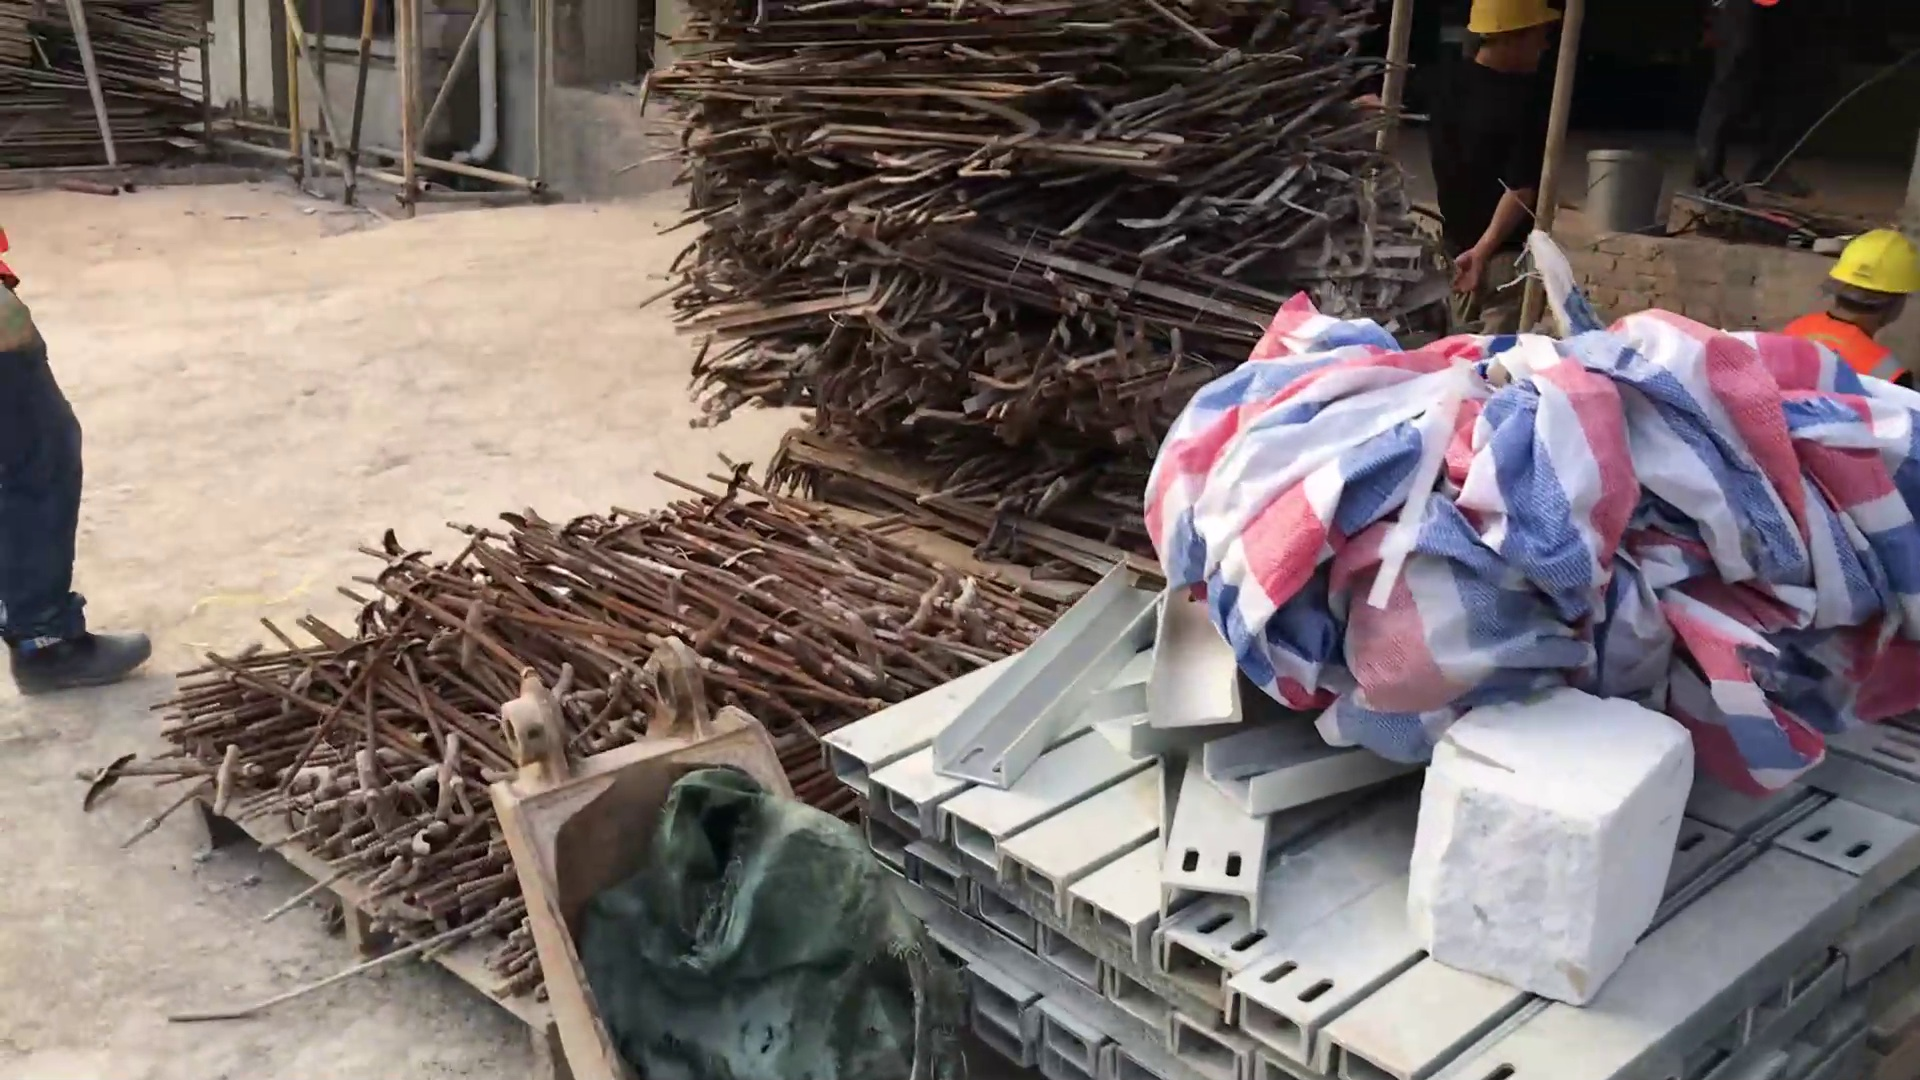helmet: (1819, 219, 1920, 305)
person: (1, 217, 167, 705), (1769, 212, 1920, 395)
vest: (1781, 309, 1917, 393)
